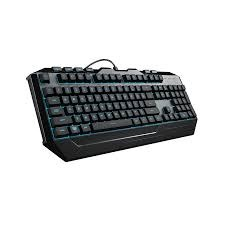keyboard: (21, 55, 206, 159)
